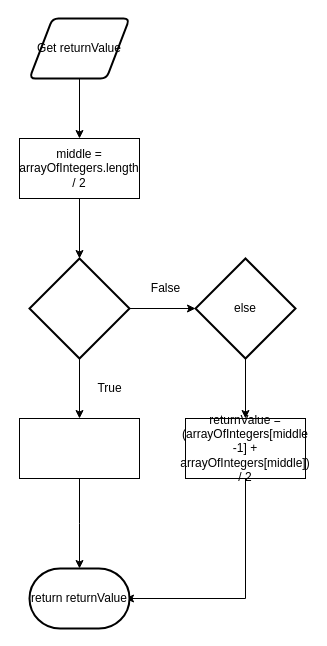
Image size: 327x646. Some labels were removed from this diagram. Each missing label, with the centre of its shape:
"if (arrayOfIntegers.length % 2 == 1)" belongs at (x=79, y=308).
"returnValue = arrayOfIntegers[middle]" belongs at (x=79, y=448).
